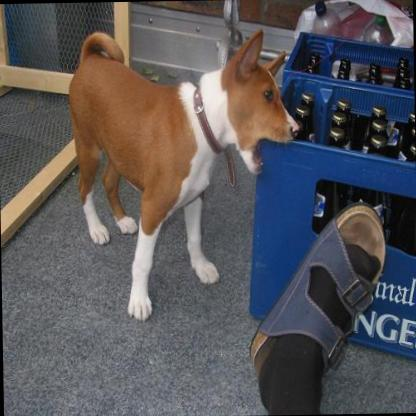basenji: (63, 24, 304, 328)
